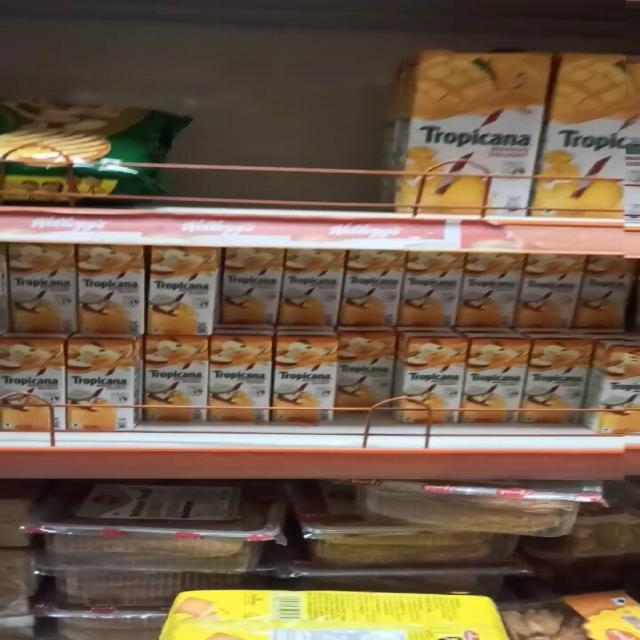Tropicana: (382, 45, 553, 210), (76, 243, 152, 345), (0, 242, 78, 337), (138, 240, 218, 332), (60, 346, 138, 436), (210, 242, 282, 332), (522, 340, 594, 428), (398, 334, 469, 423), (208, 340, 281, 423), (462, 335, 530, 422), (393, 249, 464, 325), (0, 352, 66, 431), (341, 249, 402, 330), (144, 347, 212, 418), (277, 343, 338, 421), (576, 259, 636, 332), (286, 247, 340, 327), (332, 340, 394, 409), (463, 249, 518, 324), (526, 256, 580, 324)
